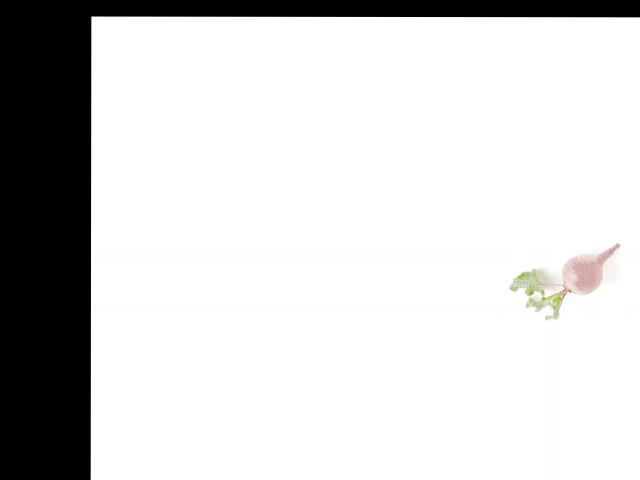beet: (509, 243, 619, 320)
